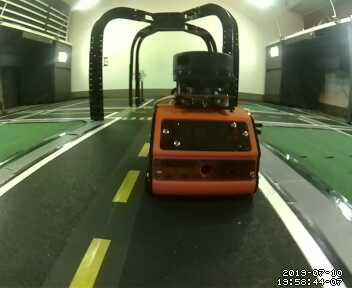pheeno: (149, 48, 262, 204)
